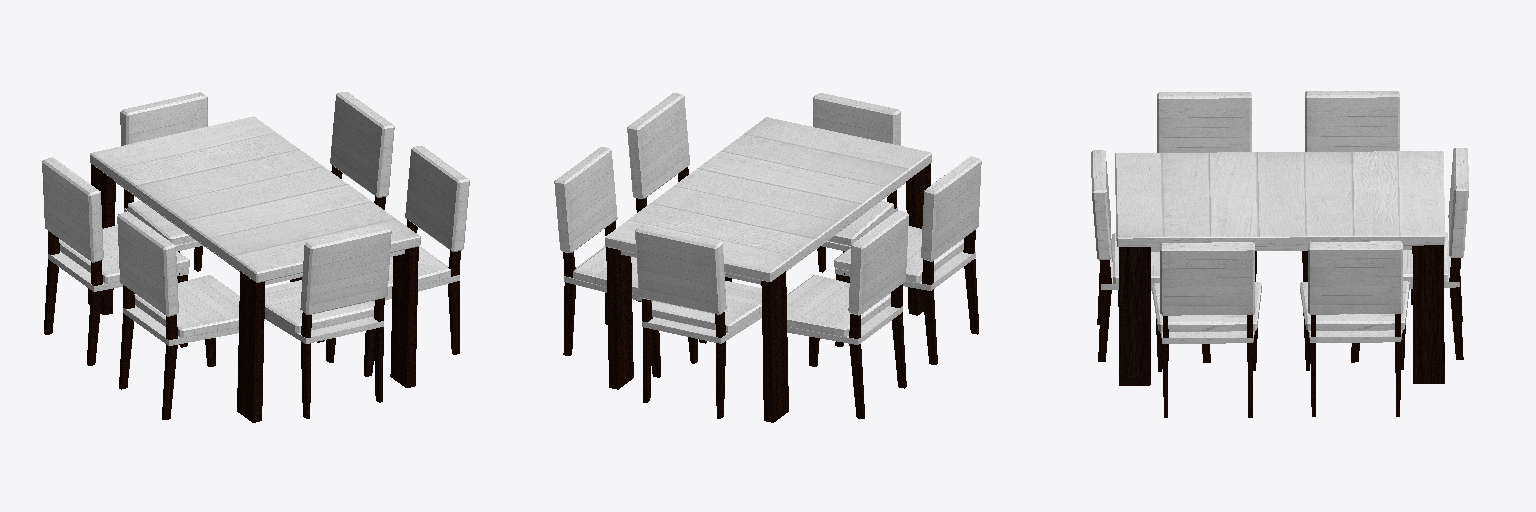
3 renders of one model, left to right at view 1: azimuth 30°, elevation 25°; view 2: azimuth 150°, elevation 25°; view 3: azimuth 270°, elevation 25°, orthographic.
Parts seen in each view (by area): view 1: Minimalistic_TableBody, NullChairFoam, NullChair_4Foam3, NullChair_3Foam1, NullChair_1Foam4, NullChair_2Foam5, Minimalistic_TableLeg, NullChair_1Foam_11, Minimalistic_TableLeg_1, NullChair_5Foam2, NullChairFoam_15, NullChair_2Foam_1 (+13 smaller); view 2: Minimalistic_TableBody, NullChair_5Foam2, NullChair_3Foam1, NullChair_4Foam3, NullChair_2Foam5, NullChair_1Foam4, NullChair_2Foam_1, Minimalistic_TableLeg_2, Minimalistic_TableLeg_3, NullChairFoam, NullChair_5Foam_13, NullChair_1Foam_11 (+13 smaller); view 3: Minimalistic_TableBody, NullChair_3Foam1, NullChair_4Foam3, NullChair_2Foam5, NullChair_1Foam4, Minimalistic_TableLeg_1, Minimalistic_TableLeg_3, NullChair_4Foam_12, NullChair_3Foam_14, NullChair_5Foam2, NullChairFoam, NullChair_4Body6 (+4 smaller).
Part boxes in pixels (bbox=[...]): Minimalistic_TableBody: bbox=[90, 116, 420, 282]; NullChairFoam: bbox=[300, 224, 391, 314]; NullChair_4Foam3: bbox=[330, 92, 394, 197]; NullChair_3Foam1: bbox=[405, 146, 469, 251]; NullChair_1Foam4: bbox=[117, 211, 178, 316]; NullChair_2Foam5: bbox=[42, 157, 103, 262]; Minimalistic_TableLeg: bbox=[237, 271, 264, 422]; NullChair_1Foam_11: bbox=[134, 275, 264, 337]; Minimalistic_TableLeg_1: bbox=[390, 247, 418, 387]; NullChair_5Foam2: bbox=[120, 92, 207, 145]; NullChairFoam_15: bbox=[265, 280, 374, 333]; NullChair_2Foam_1: bbox=[59, 225, 189, 283]; Minimalistic_TableBody: bbox=[605, 117, 931, 281]; NullChair_5Foam2: bbox=[635, 225, 726, 314]; NullChair_3Foam1: bbox=[627, 93, 689, 198]; NullChair_4Foam3: bbox=[554, 147, 617, 252]; NullChair_2Foam5: bbox=[848, 210, 908, 315]; NullChair_1Foam4: bbox=[921, 156, 981, 261]; NullChair_2Foam_1: bbox=[787, 275, 890, 336]; Minimalistic_TableLeg_2: bbox=[761, 271, 788, 422]; Minimalistic_TableLeg_3: bbox=[606, 247, 633, 389]; NullChairFoam: bbox=[813, 93, 900, 145]; NullChair_5Foam_13: bbox=[651, 281, 761, 332]; NullChair_1Foam_11: bbox=[834, 226, 963, 282]; Minimalistic_TableBody: bbox=[1115, 151, 1444, 246]; NullChair_3Foam1: bbox=[1160, 242, 1254, 315]; NullChair_4Foam3: bbox=[1308, 241, 1402, 314]; NullChair_2Foam5: bbox=[1305, 91, 1399, 151]; NullChair_1Foam4: bbox=[1157, 92, 1251, 152]; Minimalistic_TableLeg_1: bbox=[1119, 247, 1150, 385]; Minimalistic_TableLeg_3: bbox=[1412, 245, 1444, 383]; NullChair_4Foam_12: bbox=[1300, 281, 1409, 330]; NullChair_3Foam_14: bbox=[1152, 282, 1261, 331]; NullChair_5Foam2: bbox=[1448, 148, 1468, 257]; NullChairFoam: bbox=[1091, 150, 1111, 260]; NullChair_4Body6: bbox=[1308, 330, 1402, 342].
Bounding box in the file's own units: 170 × 95.07 × 179.
4 materials, 2 textured.